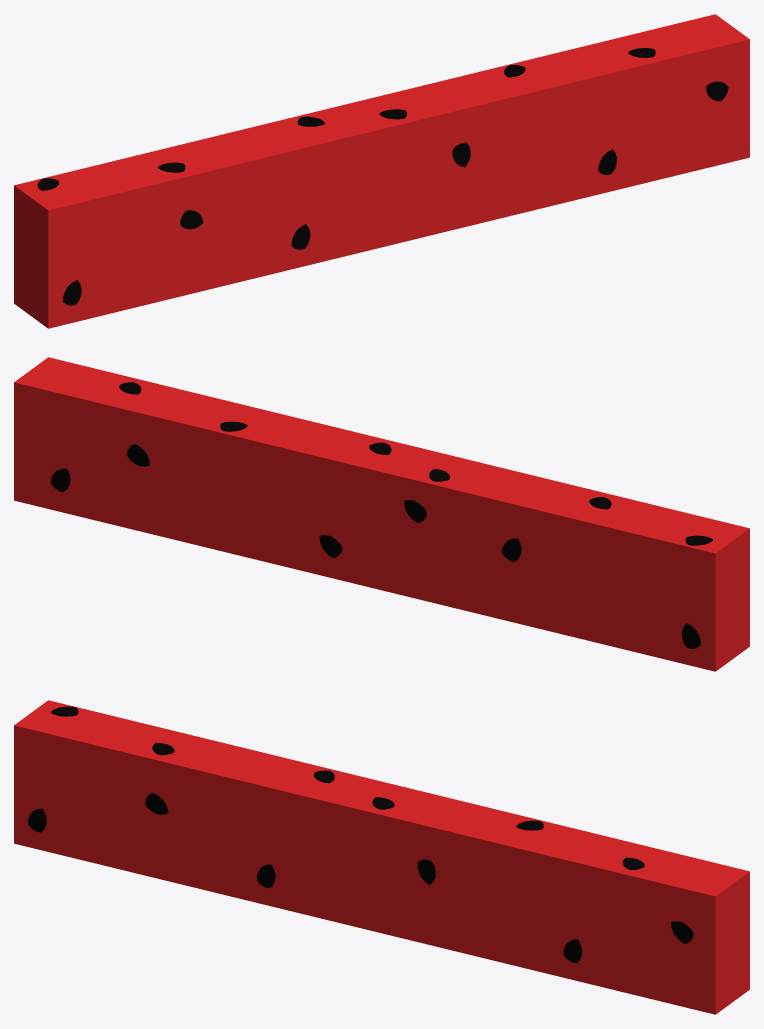
File: Obstacle Square.fbx
3 views of the same model, one above another, from view 1: azimuth 30°, elevation 25°; view 2: azimuth 150°, elevation 25°; view 3: azimuth 330°, elevation 25° (orthographic).
Visible parts, largest first — view 1: Obstacle; view 2: Obstacle; view 3: Obstacle.
Part boxes in pixels (x1=…): Obstacle: x1=14, y1=14, x2=749, y2=328; Obstacle: x1=14, y1=357, x2=749, y2=671; Obstacle: x1=14, y1=700, x2=749, y2=1014.
Bounding box in the file's own units: 2354 × 384 × 209.
